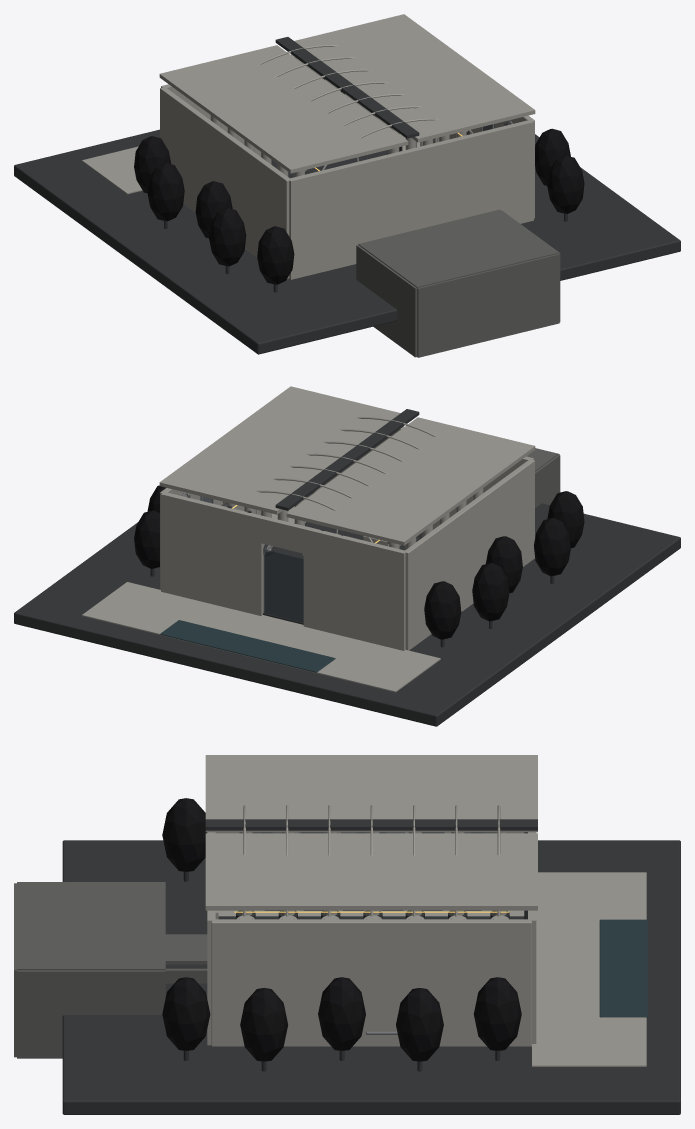
File: MIKRISTIAN_Cathedral_House.glb
3 renders of one model, top to bottom at view 1: azimuth 30°, elevation 25°; view 2: azimuth 150°, elevation 25°; view 3: azimuth 270°, elevation 25°, orthographic. The views are drawn at different scales.
Visible parts, largest first — view 1: Site_Plinth, Roof_Left, Roof_Right, Rear_Left, Rear_Right, Gallery_Back, Outer_Wall_-15.5, Gallery_Ceiling, Gallery_Left, Roof_Spine, TreeCanopy_-1_1, TreeCanopy_-1_3 (+7 smaller); view 2: Site_Plinth, Roof_Left, Roof_Right, Courtyard_Stone, Front_Left, Front_Right, Outer_Wall_-15.5, Reflecting_Pool, Main_Hall_Floor, Entry_Glass, Roof_Spine, TreeCanopy_-1_1 (+7 smaller); view 3: Site_Plinth, Outer_Wall_15.5, Roof_Right, Roof_Left, Courtyard_Stone, Gallery_Ceiling, Gallery_Right, Reflecting_Pool, Roof_Spine, TreeCanopy_1_1, TreeCanopy_1_3, TreeCanopy_1_2 (+9 smaller).
Boxes of the visible parts, x1,y1,x2,y2 form: Site_Plinth: [14, 129, 680, 354]; Roof_Left: [159, 45, 408, 173]; Roof_Right: [294, 14, 535, 142]; Rear_Left: [288, 150, 413, 279]; Rear_Right: [409, 119, 533, 230]; Gallery_Back: [417, 253, 559, 357]; Outer_Wall_-15.5: [160, 87, 289, 278]; Gallery_Ceiling: [358, 209, 558, 287]; Gallery_Left: [356, 245, 417, 357]; Roof_Spine: [275, 37, 419, 138]; TreeCanopy_-1_1: [147, 163, 184, 221]; TreeCanopy_-1_3: [209, 208, 246, 266]; Site_Plinth: [14, 503, 680, 726]; Roof_Left: [286, 417, 535, 545]; Roof_Right: [159, 386, 400, 514]; Courtyard_Stone: [82, 582, 440, 692]; Front_Left: [303, 526, 406, 650]; Front_Right: [161, 492, 264, 615]; Outer_Wall_-15.5: [404, 459, 534, 650]; Reflecting_Pool: [160, 620, 335, 672]; Main_Hall_Floor: [263, 522, 420, 624]; Entry_Glass: [263, 549, 303, 622]; Roof_Spine: [275, 409, 419, 510]; TreeCanopy_-1_1: [472, 563, 509, 621]; Site_Plinth: [62, 840, 680, 1114]; Outer_Wall_15.5: [211, 919, 531, 1046]; Roof_Right: [205, 833, 537, 910]; Roof_Left: [205, 755, 537, 832]; Courtyard_Stone: [532, 872, 646, 1066]; Gallery_Ceiling: [17, 882, 165, 970]; Gallery_Right: [17, 970, 165, 1058]; Reflecting_Pool: [599, 919, 647, 1017]; Roof_Spine: [205, 819, 537, 830]; TreeCanopy_1_1: [396, 988, 443, 1061]; TreeCanopy_1_3: [240, 988, 287, 1061]; TreeCanopy_1_2: [318, 977, 365, 1050].
Bounding box in the file's own units: 54 × 18.46 × 58.25.
